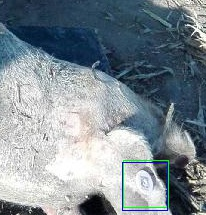text: (123, 160, 168, 207)
